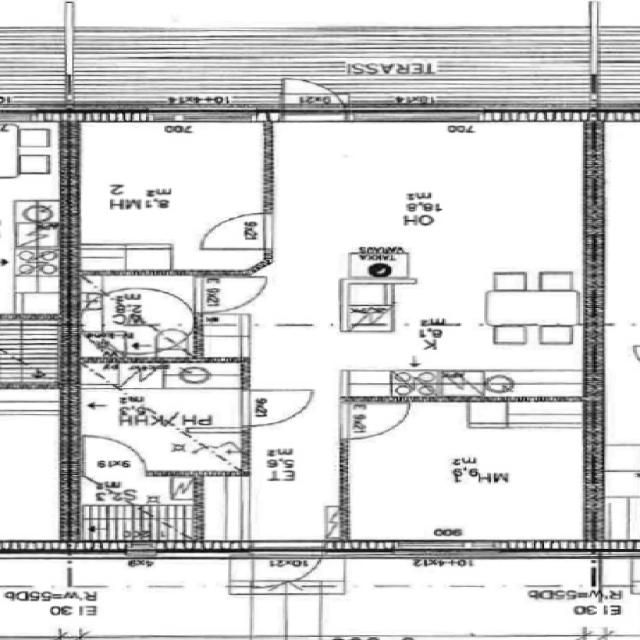door: (246, 545, 328, 590), (195, 210, 274, 252), (339, 401, 415, 442), (239, 388, 314, 428), (196, 276, 268, 316), (279, 76, 348, 115), (79, 434, 150, 470)
window: (386, 538, 499, 558), (143, 108, 264, 125)
zone: (276, 115, 585, 398), (339, 399, 599, 546), (63, 120, 270, 274), (69, 358, 250, 474), (72, 275, 198, 360), (69, 471, 202, 546)
